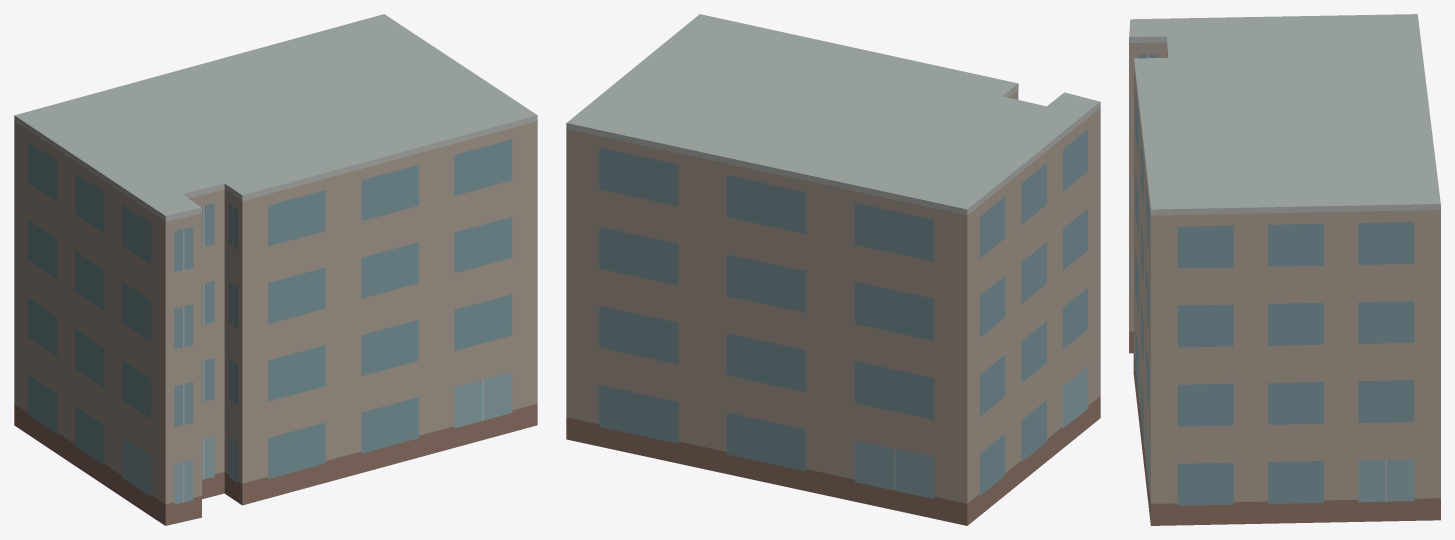
Rendered from survey-upis-32731963.glb.
3 renders of one model, left to right at view 1: azimuth 30°, elevation 25°; view 2: azimuth 150°, elevation 25°; view 3: azimuth 270°, elevation 25°, orthographic. The views are drawn at different scales.
Parts seen in each view (by area): view 1: survey-upis-32731963.tmp; view 2: survey-upis-32731963.tmp; view 3: survey-upis-32731963.tmp.
Boxes of the visible parts, x1,y1,x2,y2 form: survey-upis-32731963.tmp: (14,14,537,525); survey-upis-32731963.tmp: (566,14,1100,525); survey-upis-32731963.tmp: (1129,14,1440,525).
Bounding box in the file's own units: 17.06 × 12.86 × 11.5.
